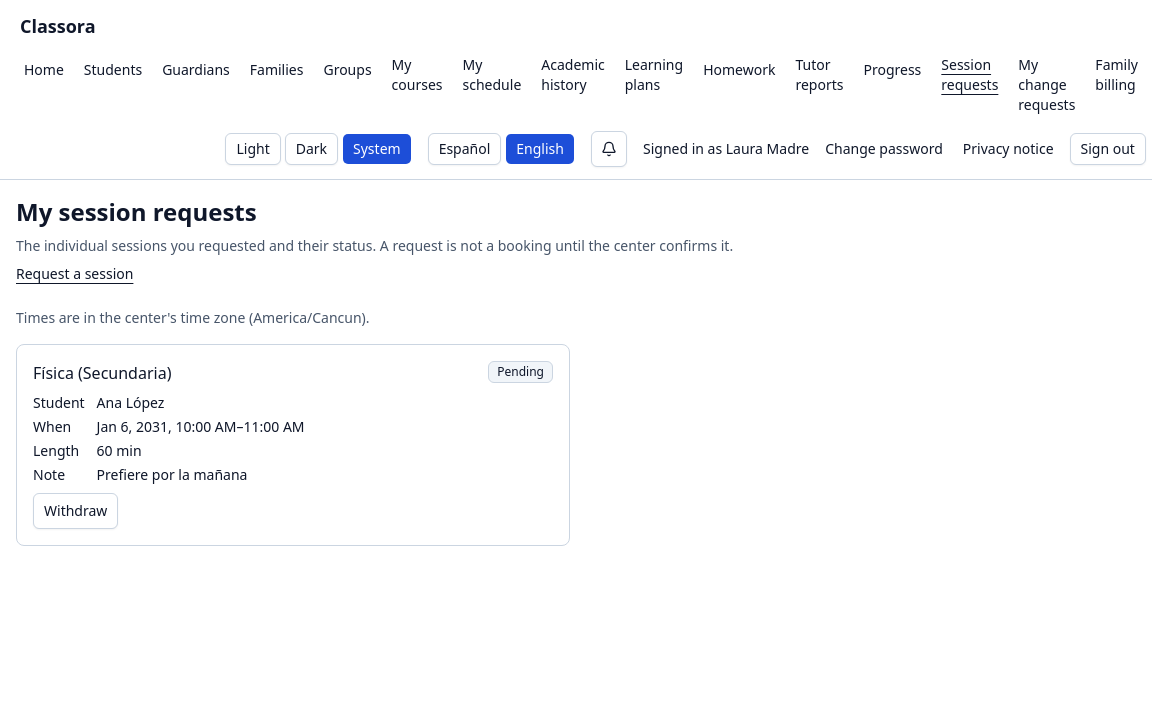
Test case: /requests › a 409 session_request_not_pending shows its message and refreshes
The width and height of the screenshot is (1152, 720).
Click the button "Withdraw": (76, 511) [33, 493, 118, 529]
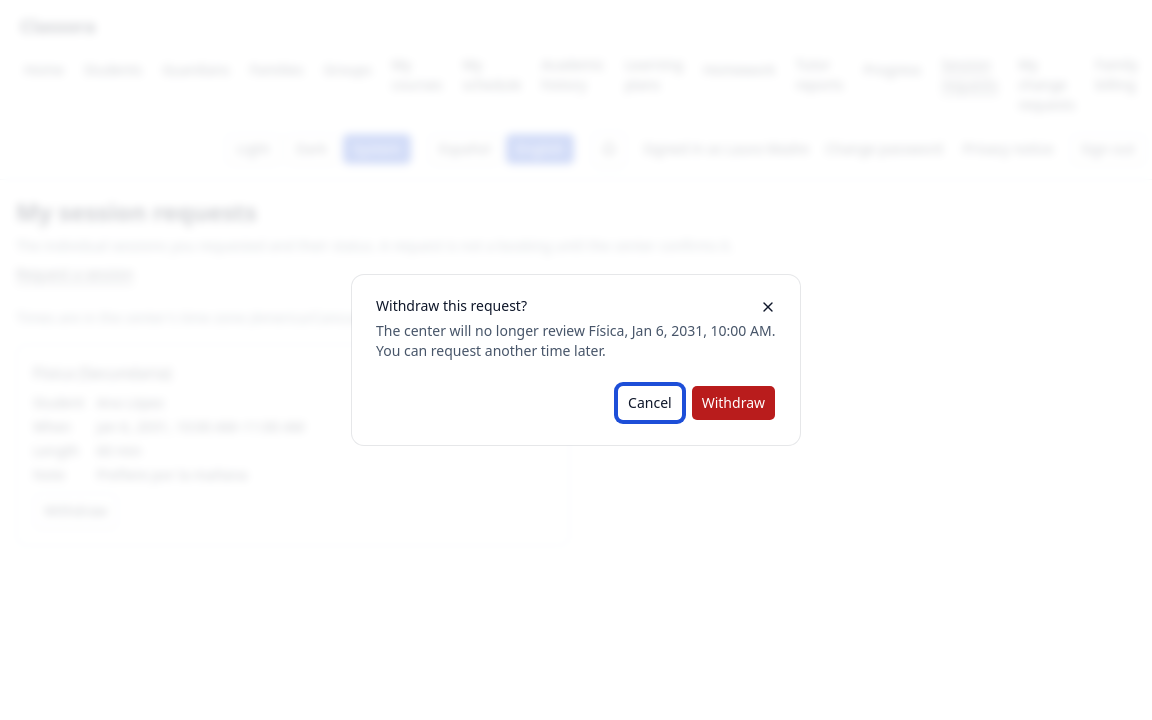
Click the button "Withdraw": (733, 403) [691, 385, 776, 421]
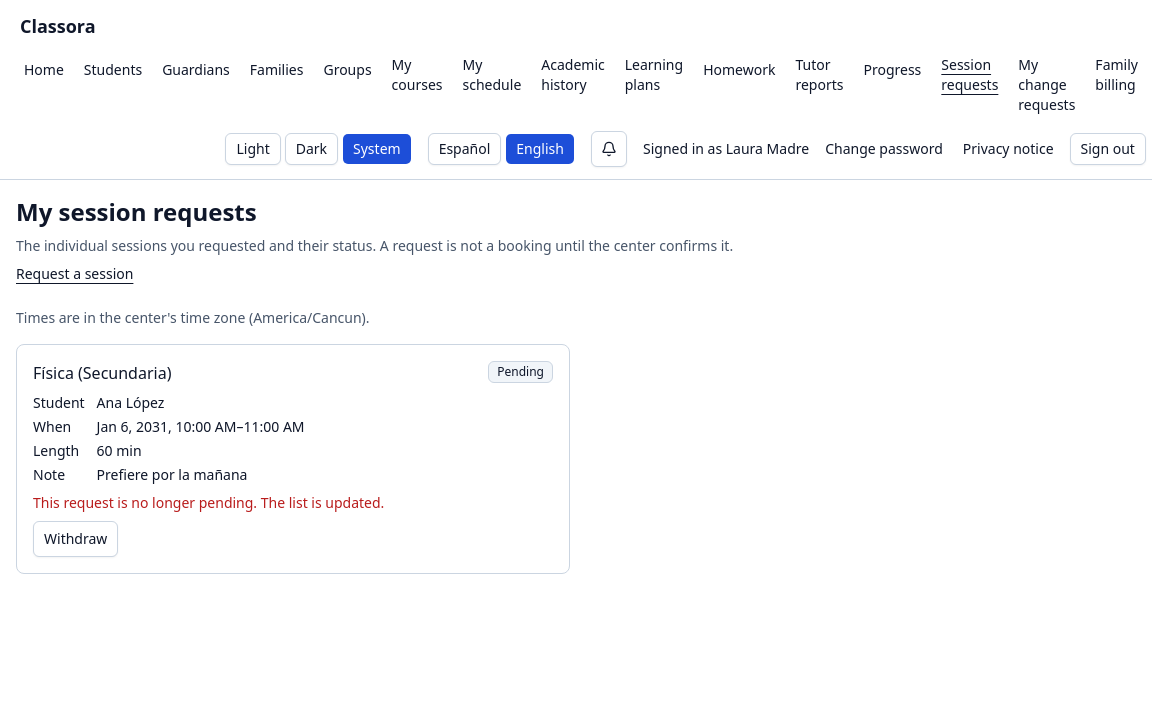
Result: the message "This request is no longer pending. The list is updated." is shown at [33, 493, 384, 512]
